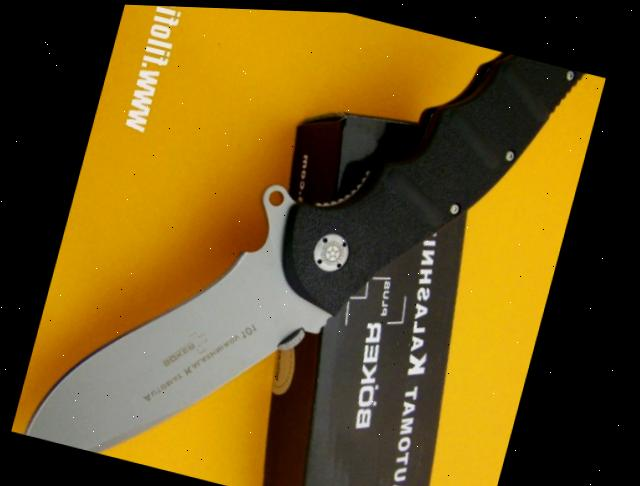pocket-knife: (15, 1, 598, 486)
